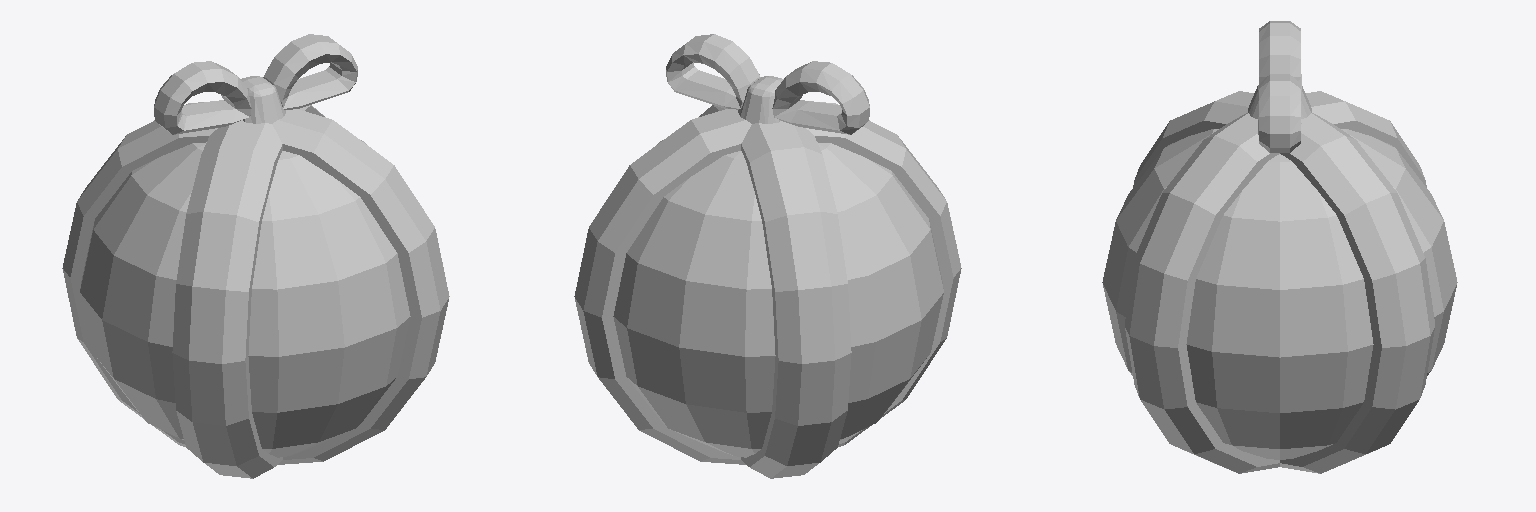
Rendered from present_sphere_B_green.obj.
The picture shows the model from 3 angles: view 1: azimuth 30°, elevation 25°; view 2: azimuth 150°, elevation 25°; view 3: azimuth 270°, elevation 25°; orthographic projection.
Parts seen in each view (by area): view 1: present_sphere_B_green; view 2: present_sphere_B_green; view 3: present_sphere_B_green.
Part boxes in pixels (left/top/right/bottom): present_sphere_B_green: left=62, top=34, right=449, bottom=478; present_sphere_B_green: left=574, top=34, right=961, bottom=478; present_sphere_B_green: left=1102, top=21, right=1457, bottom=473.
Size of the model in its own units: 0.7933 by 1 by 0.7933.